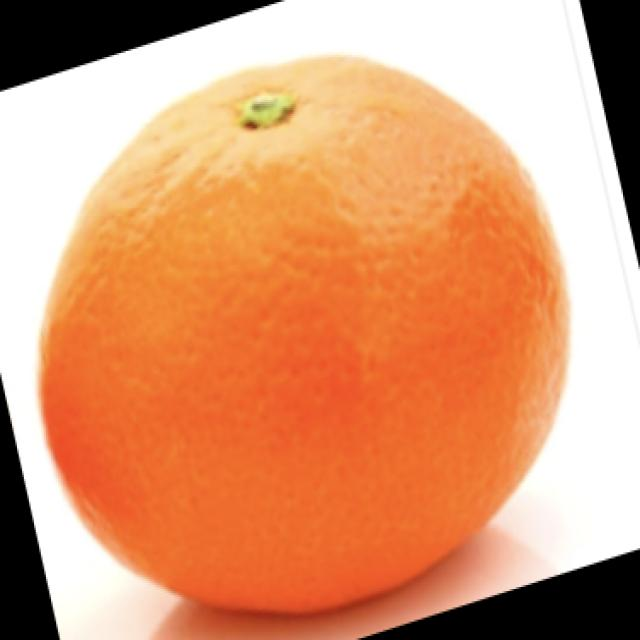matang: (41, 63, 562, 604)
